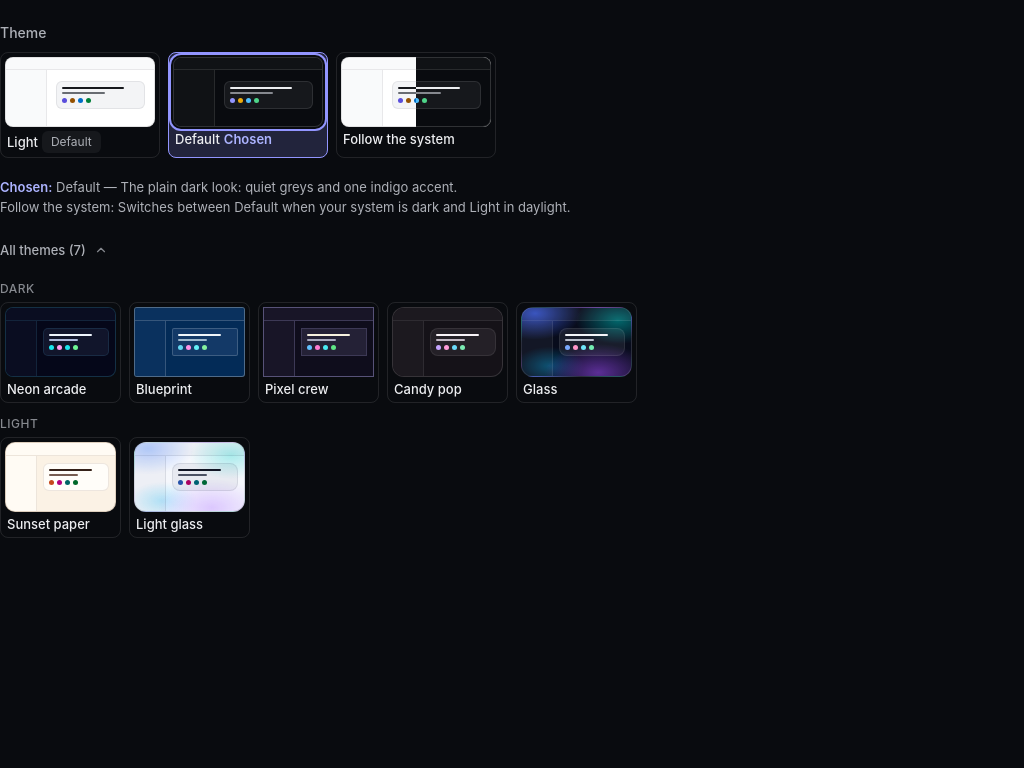
theme picker and the hidden themes › draws each theme as a swatch in its own tokens, the name under it, and marks the chosen one with a word and a ring; its description is the line under the grid,
Expected: the text "Chosen" is shown once, [224, 131, 272, 148]
Expected: the text "Frosted white panes" is not shown
Step 1. Click the radio button labelled "Light glass" → click(134, 442), box [133, 441, 135, 443]
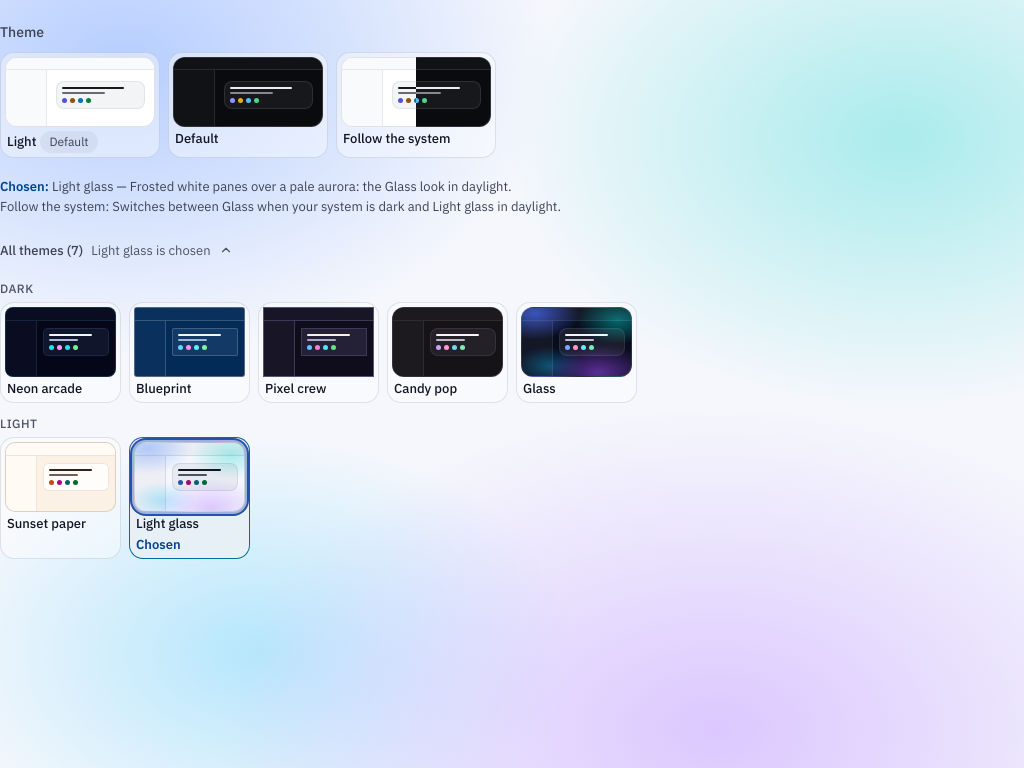
Expected: the text "Chosen" is shown, [136, 537, 181, 554]
Result: the element with test id "theme-chosen-line" shows "Chosen: Light glass — Frosted white panes" at [0, 178, 585, 196]
